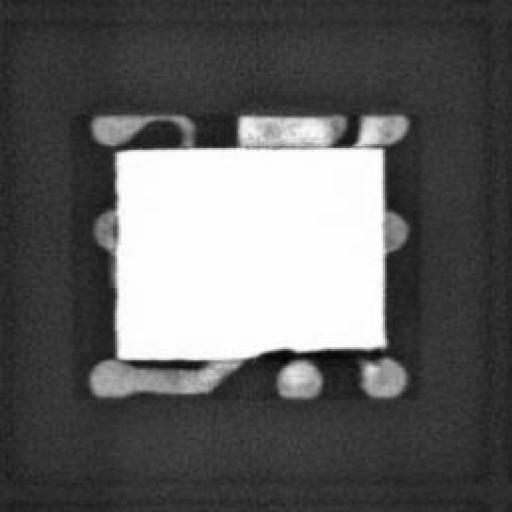DIE_BROKEN: (240, 342, 391, 358)
